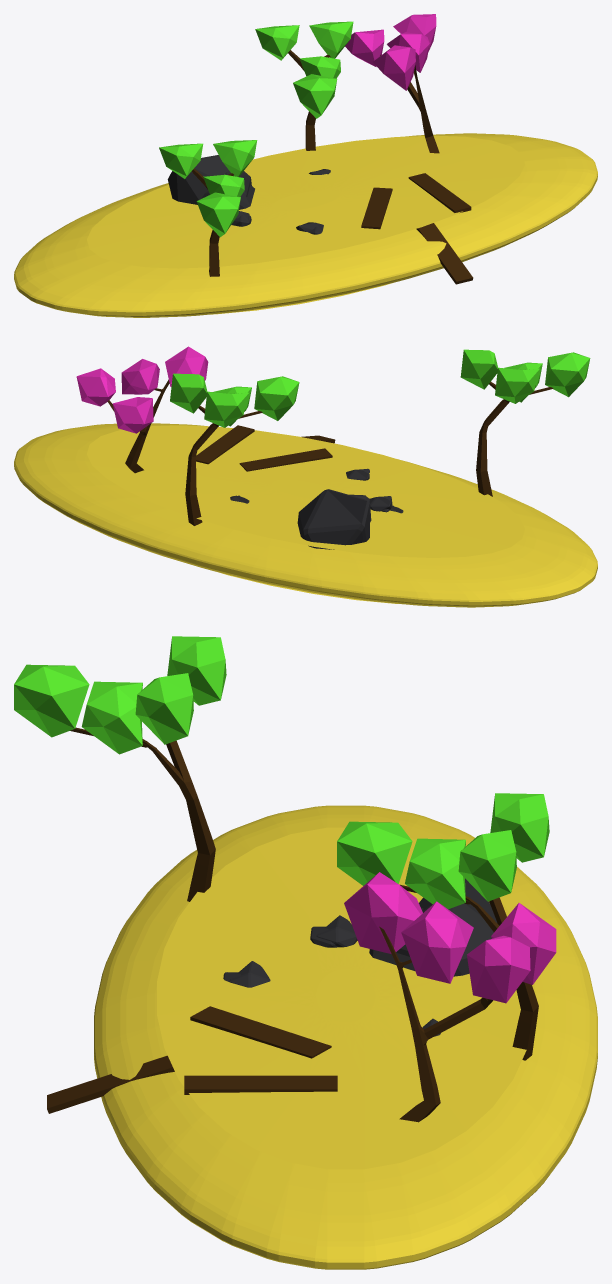
Rendered from island2.glb.
3 renders of one model, top to bottom at view 1: azimuth 30°, elevation 25°; view 2: azimuth 150°, elevation 25°; view 3: azimuth 270°, elevation 25°, orthographic. The views are drawn at different scales.
Parts seen in each view (by area): view 1: Sphere.001, Icosphere.026, Icosphere.018, Icosphere.034, Icosphere.027, Cube.010, Icosphere.019, Icosphere.033, Icosphere.020, Icosphere.032, Icosphere.029, Cube.008 (+8 smaller); view 2: Sphere.001, Icosphere.026, Icosphere.018, Icosphere.034, Icosphere.032, Icosphere.020, Icosphere.029, Cube.007, Icosphere.019, Icosphere.033, Icosphere.030, Icosphere.028 (+5 smaller); view 3: Sphere.001, Icosphere.018, Icosphere.027, Icosphere.034, Icosphere.030, Icosphere.021, Icosphere.031, Icosphere.028, Icosphere.019, Icosphere.033, Cube.006, Icosphere.020 (+9 smaller).
Boxes of the visible parts, x1,y1,x2,y2 form: Sphere.001: (14, 133, 597, 317); Icosphere.026: (167, 155, 254, 209); Icosphere.018: (196, 192, 240, 237); Icosphere.034: (293, 74, 337, 118); Icosphere.027: (373, 45, 415, 90); Cube.010: (416, 223, 473, 284); Icosphere.019: (213, 140, 257, 176); Icosphere.033: (309, 21, 353, 58); Icosphere.020: (159, 143, 203, 178); Icosphere.032: (255, 25, 299, 60); Icosphere.029: (345, 29, 384, 66); Cube.008: (408, 173, 471, 212); Sphere.001: (14, 423, 597, 607); Icosphere.026: (297, 489, 371, 549); Icosphere.018: (545, 352, 590, 397); Icosphere.034: (254, 376, 299, 420); Icosphere.032: (204, 391, 249, 427); Icosphere.020: (495, 367, 539, 403); Icosphere.029: (112, 397, 153, 433); Cube.007: (185, 405, 262, 525); Icosphere.019: (460, 349, 497, 389); Icosphere.033: (170, 373, 207, 413); Icosphere.030: (121, 359, 159, 394); Icosphere.028: (76, 368, 115, 406); Sphere.001: (94, 805, 597, 1269); Icosphere.018: (14, 664, 89, 737); Icosphere.027: (344, 872, 422, 953); Icosphere.034: (337, 821, 412, 885); Icosphere.030: (401, 901, 473, 983); Icosphere.021: (81, 681, 142, 754); Icosphere.031: (405, 838, 465, 909); Icosphere.028: (467, 935, 530, 1003); Icosphere.019: (135, 673, 193, 744); Icosphere.033: (458, 830, 516, 901); Cube.006: (379, 926, 492, 1122); Icosphere.020: (167, 636, 226, 705).
Size of the model in its own units: 14.05 by 4.35 by 7.6.
